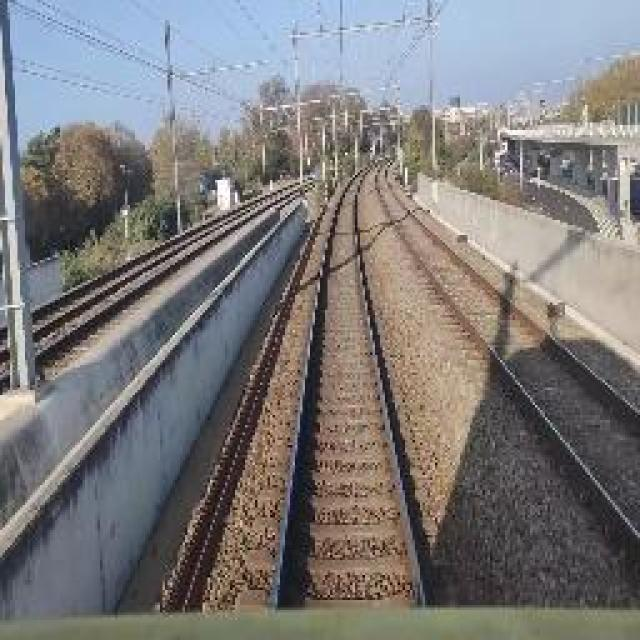rail: (237, 156, 456, 615)
